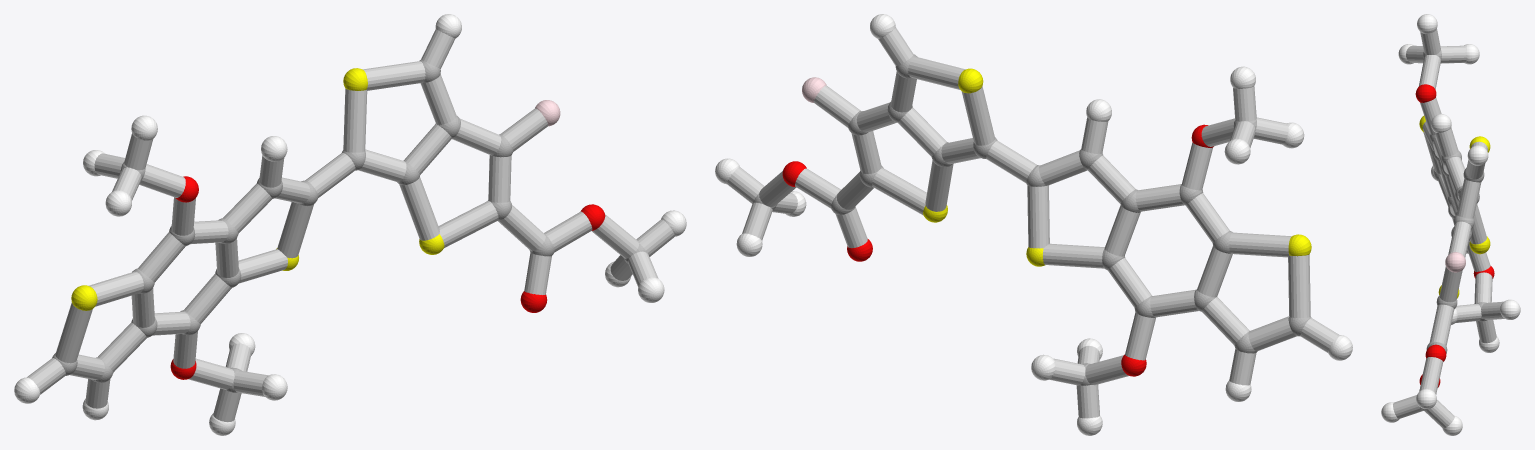
Rendered from Dimethoxy_Benzodithiophene_Phi_5_Theta_330_Methylcarbonyl_3_Fluoro_Thienothiophene.glb.
3 renders of one model, left to right at view 1: azimuth 30°, elevation 25°; view 2: azimuth 150°, elevation 25°; view 3: azimuth 270°, elevation 25°, orthographic. The views are drawn at different scales.
Visible parts, largest first — view 1: grp15205, grp8689, grp1, grp7241, grp13395; view 2: grp15205, grp8689, grp1, grp7241, grp13395; view 3: grp15205, grp8689, grp1, grp13395, grp7241, grp14843.
Part boxes in pixels (x1,y1,x2,y2): grp15205: [27, 29, 674, 422]; grp8689: [14, 14, 686, 435]; grp1: [52, 60, 646, 392]; grp7241: [71, 68, 444, 310]; grp13395: [170, 176, 605, 379]; grp15205: [727, 27, 1338, 418]; grp8689: [715, 14, 1352, 435]; grp1: [753, 54, 1311, 385]; grp7241: [923, 68, 1311, 266]; grp13395: [782, 124, 1213, 376]; grp15205: [1393, 28, 1504, 428]; grp8689: [1381, 14, 1520, 435]; grp1: [1420, 50, 1486, 410]; grp13395: [1415, 84, 1494, 387]; grp7241: [1419, 115, 1490, 298]; grp14843: [1445, 252, 1465, 272].
Bounding box in the file's own units: 17.16 × 9.34 × 4.03.
